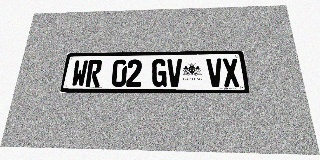0: (111, 60, 127, 87)
2: (126, 59, 142, 87)
G: (152, 59, 167, 87)
R: (85, 60, 102, 87)
V: (206, 58, 224, 87), (167, 59, 182, 87)
W: (71, 60, 88, 87)
X: (222, 58, 240, 87)
